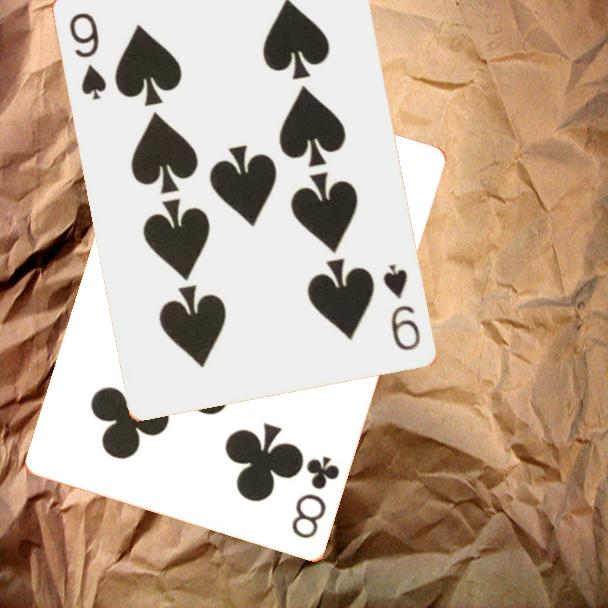c08: (288, 452, 343, 543)
s09: (380, 260, 424, 354), (66, 9, 110, 103)
